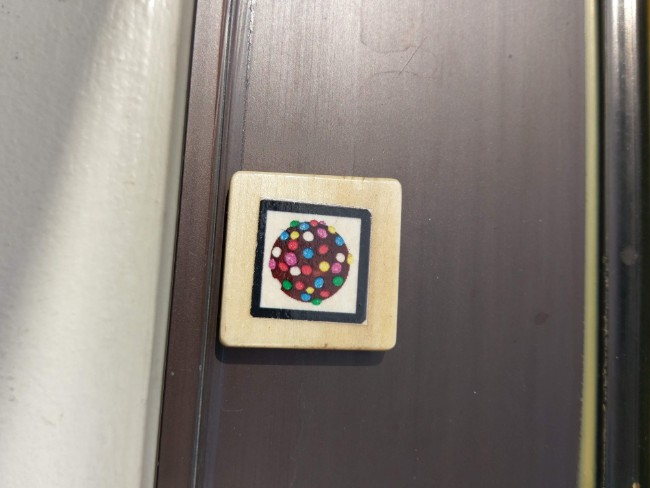cookie: (240, 191, 386, 333)
